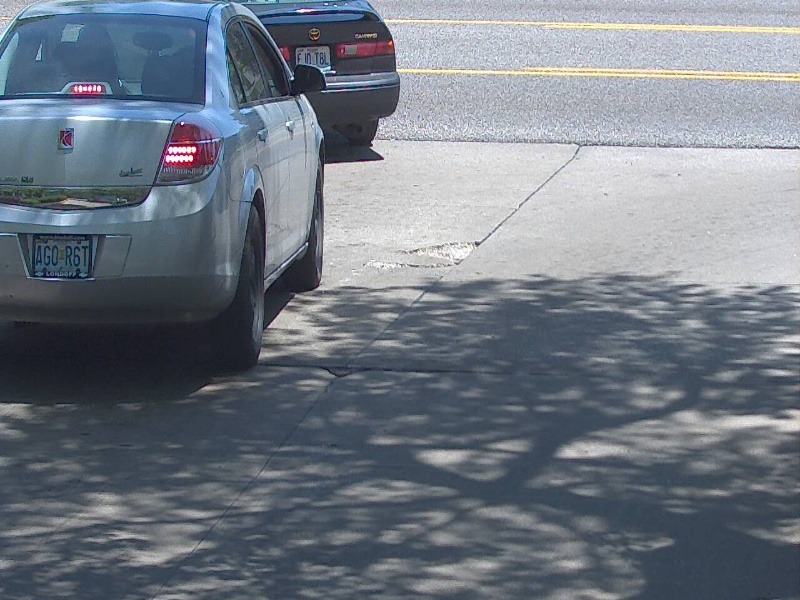licence plate: (26, 235, 94, 277)
